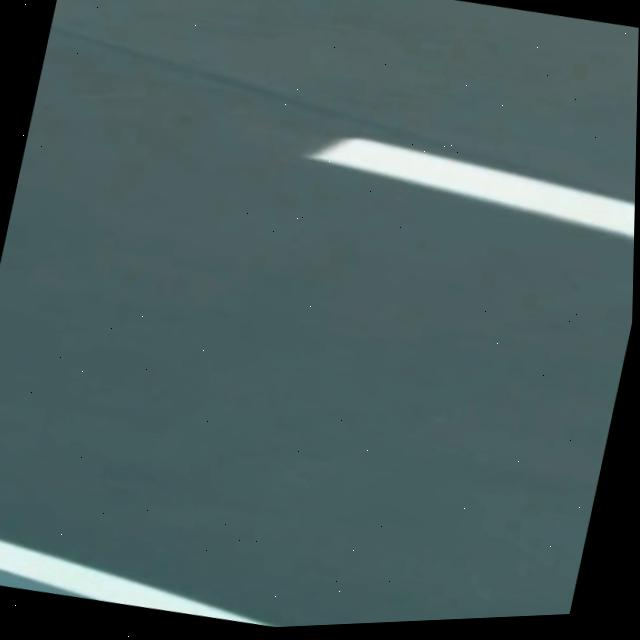center: (306, 138, 635, 239)
left: (0, 542, 265, 626)
